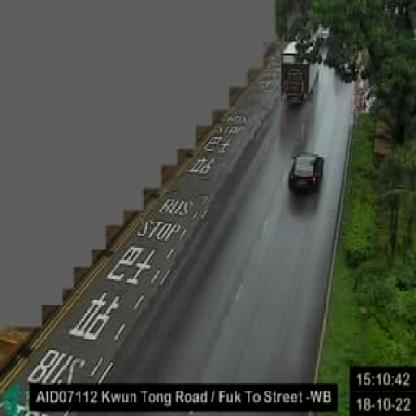Car: (288, 150, 326, 197)
Truck: (282, 35, 320, 110)
